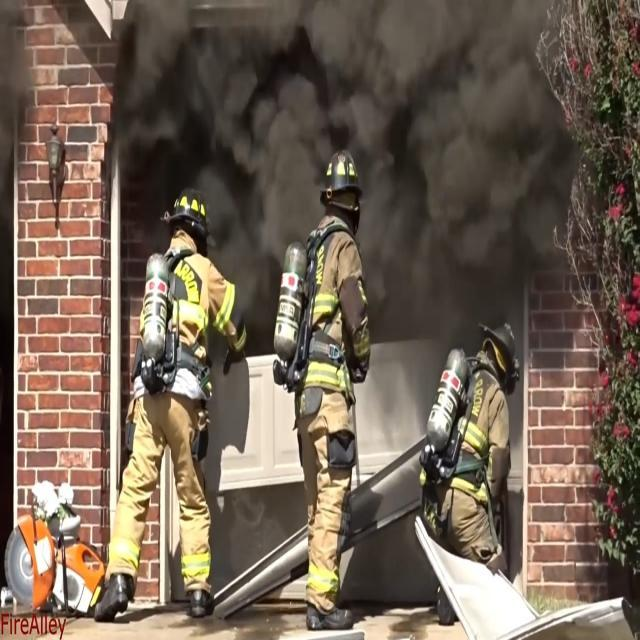Smoke: (162, 0, 546, 238)
